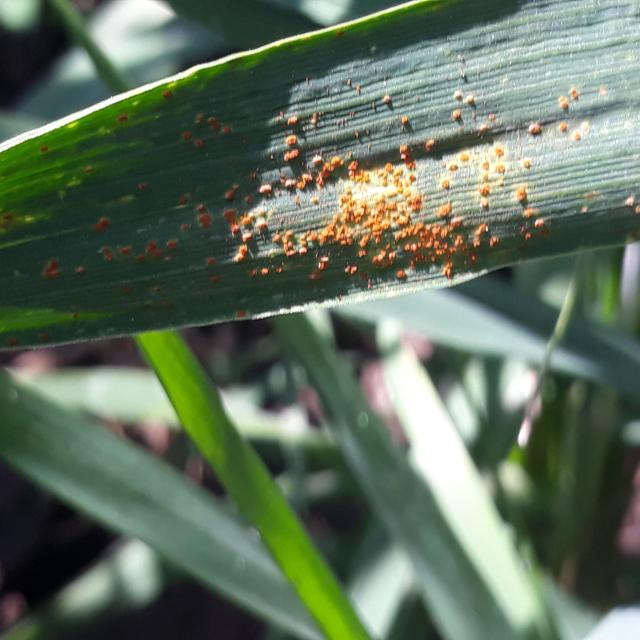orang_rust: (0, 0, 640, 360)
